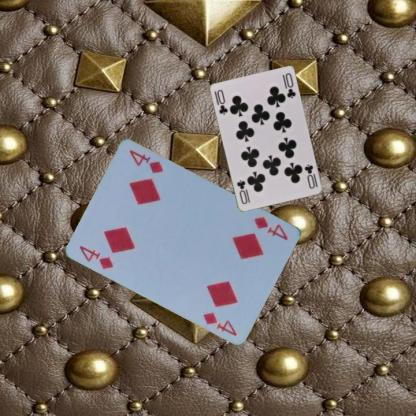10c: (212, 87, 229, 116), (302, 162, 317, 190)
4d: (249, 214, 290, 242), (77, 243, 117, 270)
